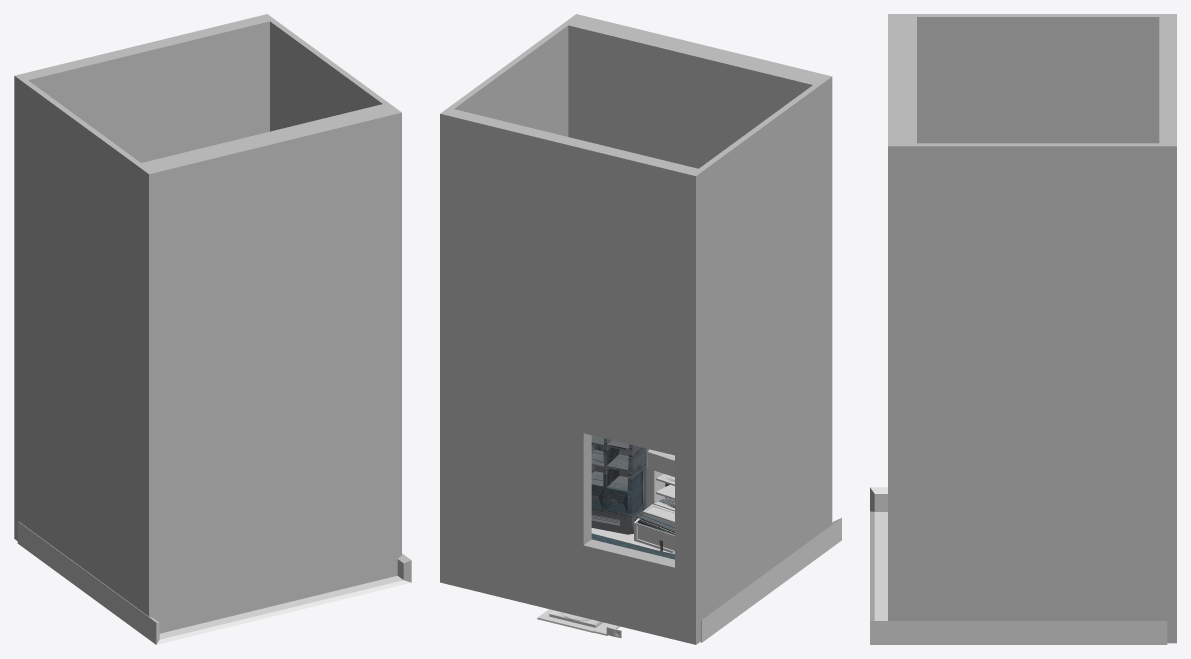
The model's file is 超级微波炉建模(4).fbx.
3 views of the same model, side by side, from view 1: azimuth 30°, elevation 25°; view 2: azimuth 150°, elevation 25°; view 3: azimuth 270°, elevation 25° (orthographic). The views are drawn at different scales.
Parts seen in each view (by area): view 1: 立方体.001, 墙壁; view 2: 立方体.001, 商店, 墙壁, 麻辣烫冰柜, 微波炉内部; view 3: 立方体.001, 墙壁.
Boxes of the visible parts, bbox=[...] form: 立方体.001: bbox=[14, 14, 401, 633]; 墙壁: bbox=[17, 521, 411, 644]; 立方体.001: bbox=[440, 14, 832, 644]; 商店: bbox=[591, 435, 646, 534]; 墙壁: bbox=[591, 518, 841, 642]; 麻辣烫冰柜: bbox=[634, 449, 674, 552]; 微波炉内部: bbox=[537, 609, 620, 635]; 立方体.001: bbox=[888, 14, 1176, 643]; 墙壁: bbox=[870, 487, 1167, 644].
Size of the model in its own units: 3303 by 6062 by 3205.
